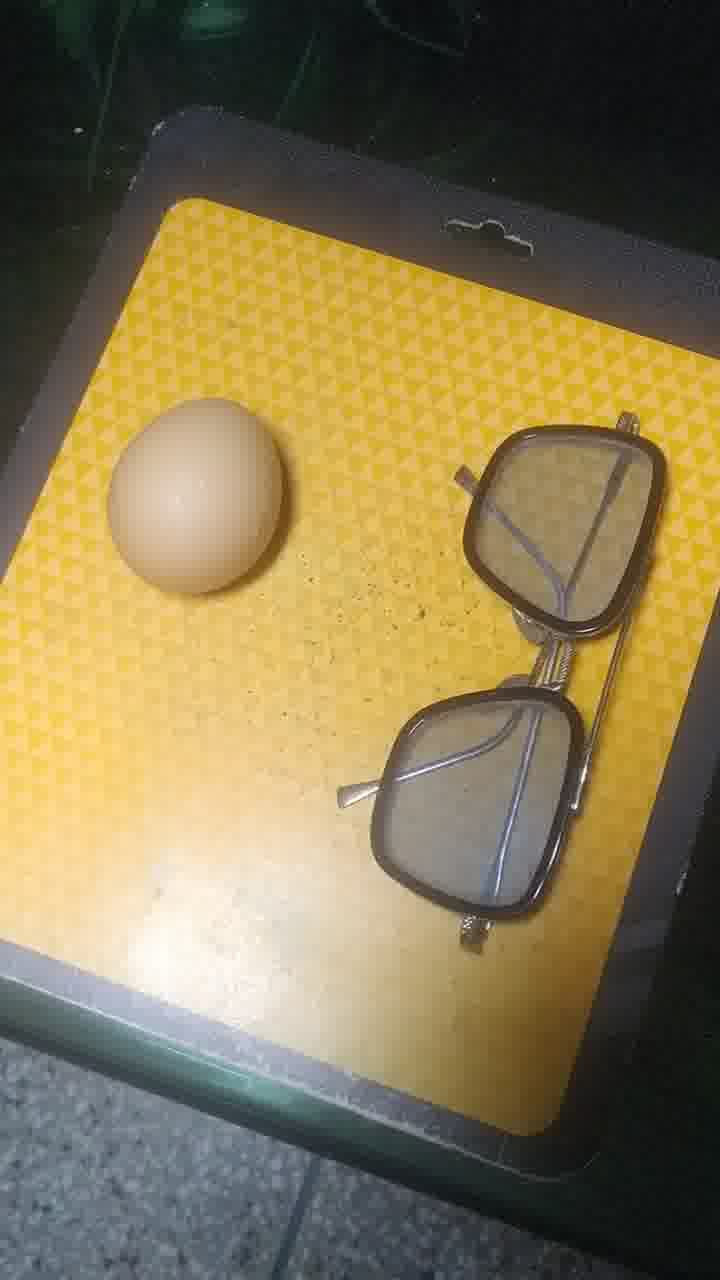egg: (111, 393, 294, 613)
sunglass: (331, 416, 691, 961)
